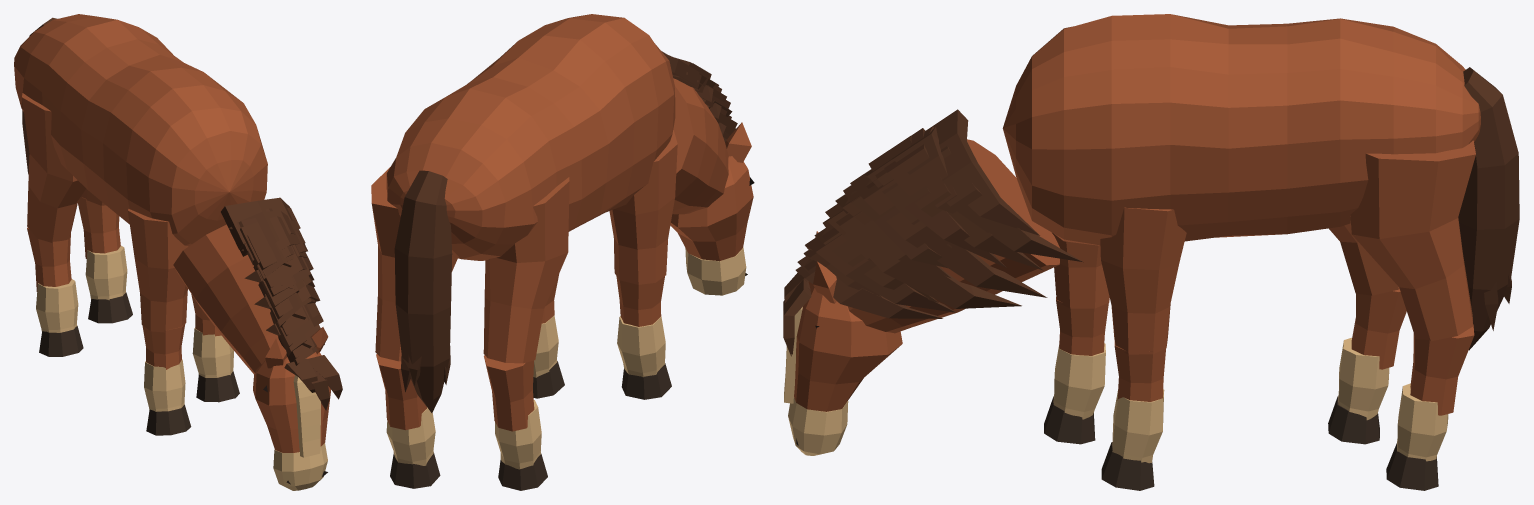
File: horse-feeding.glb
3 renders of one model, left to right at view 1: azimuth 30°, elevation 25°; view 2: azimuth 150°, elevation 25°; view 3: azimuth 270°, elevation 25°, orthographic. The views are drawn at different scales.
Visible parts, largest first — view 1: body, mane, neck, leg_hr_upper, leg_fr_upper, head, leg_hr_sock, leg_hl_sock, leg_hl_lower, leg_fr_sock, leg_hr_lower, muzzle (+10 smaller); view 2: body, tail, leg_hr_upper, leg_fr_upper, neck, head, leg_hl_upper, leg_hr_lower, leg_fr_sock, leg_hl_lower, muzzle, mane (+9 smaller); view 3: body, mane, leg_hl_upper, tail, leg_fl_upper, head, neck, leg_hl_lower, leg_hr_lower, leg_fr_upper, leg_fr_sock, leg_fl_sock (+11 smaller).
Boxes of the visible parts, <box> form: body: <box>14,14,267,246</box>; mane: <box>221,197,324,365</box>; neck: <box>173,224,281,374</box>; leg_hr_upper: <box>22,93,85,242</box>; leg_fr_upper: <box>127,209,188,332</box>; head: <box>253,352,330,452</box>; leg_hr_sock: <box>36,279,78,332</box>; leg_hl_sock: <box>85,245,127,300</box>; leg_hl_lower: <box>78,197,120,258</box>; leg_fr_sock: <box>144,359,185,411</box>; leg_hr_lower: <box>27,227,71,291</box>; muzzle: <box>273,443,327,490</box>; body: <box>386,14,675,260</box>; tail: <box>394,170,452,412</box>; leg_hr_upper: <box>483,177,569,363</box>; leg_fr_upper: <box>609,130,677,284</box>; neck: <box>672,78,728,214</box>; head: <box>670,156,753,261</box>; leg_hl_upper: <box>371,167,457,361</box>; leg_hr_lower: <box>484,355,534,431</box>; leg_fr_sock: <box>617,316,665,377</box>; leg_hl_lower: <box>376,354,426,430</box>; muzzle: <box>685,247,746,295</box>; mane: <box>661,51,737,142</box>; body: <box>1002,14,1480,245</box>; mane: <box>795,109,1083,318</box>; leg_hl_upper: <box>1350,140,1475,341</box>; tail: <box>1458,67,1519,350</box>; leg_fl_upper: <box>1100,207,1186,354</box>; head: <box>794,281,902,411</box>; neck: <box>848,139,1059,333</box>; leg_hl_lower: <box>1410,325,1474,415</box>; leg_hr_lower: <box>1351,289,1406,369</box>; leg_fr_upper: <box>1052,233,1109,308</box>; leg_fr_sock: <box>1053,343,1105,419</box>; leg_fl_sock: <box>1112,389,1164,463</box>.
Bounding box in the file's own units: 0.7015 × 1.68 × 2.58.
